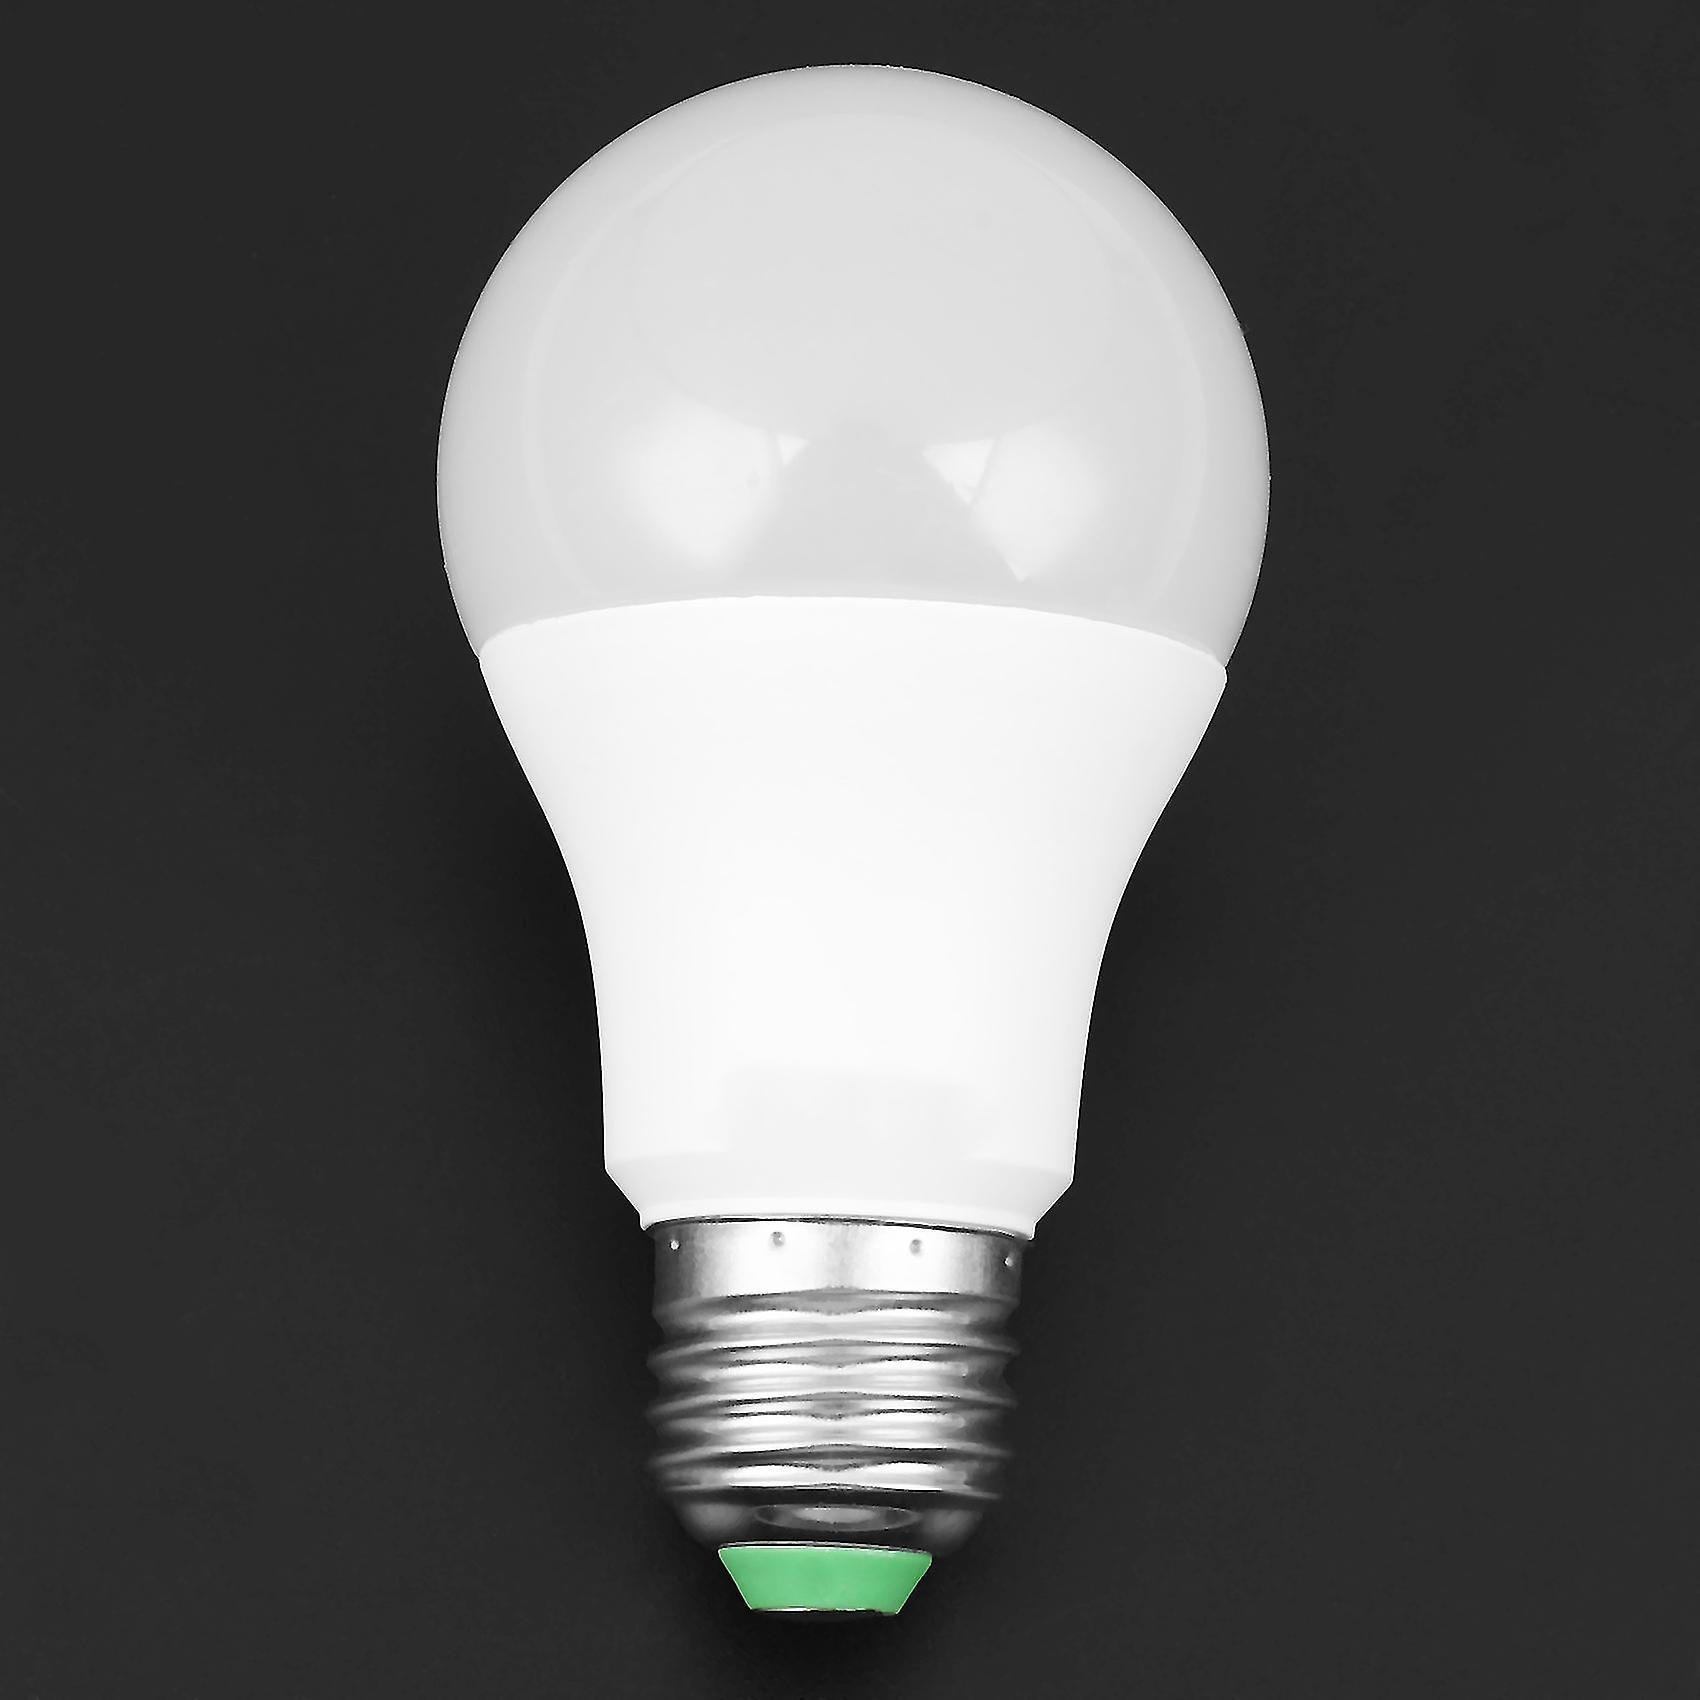Fan: (433, 45, 1269, 852)
